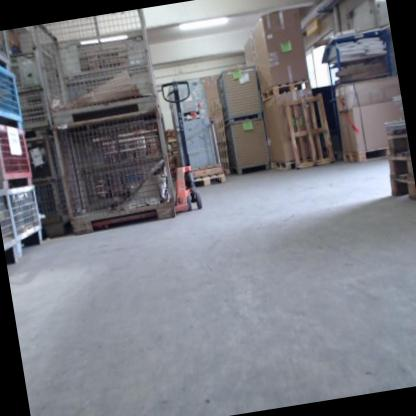pallet: (280, 91, 339, 173), (259, 77, 314, 102), (387, 169, 416, 207), (341, 144, 391, 166), (386, 149, 414, 181), (385, 129, 410, 158), (210, 101, 227, 143), (217, 139, 233, 177), (270, 155, 295, 175), (193, 173, 226, 188)
pallet_truck: (154, 78, 209, 215)
stillage: (50, 108, 182, 238), (33, 10, 163, 125), (7, 187, 51, 263), (213, 62, 267, 123), (223, 117, 274, 179), (0, 116, 39, 192), (32, 182, 68, 238), (2, 50, 43, 98), (24, 131, 60, 185), (0, 52, 25, 128), (0, 191, 20, 267), (14, 93, 51, 134), (2, 26, 38, 56), (0, 31, 11, 68)
